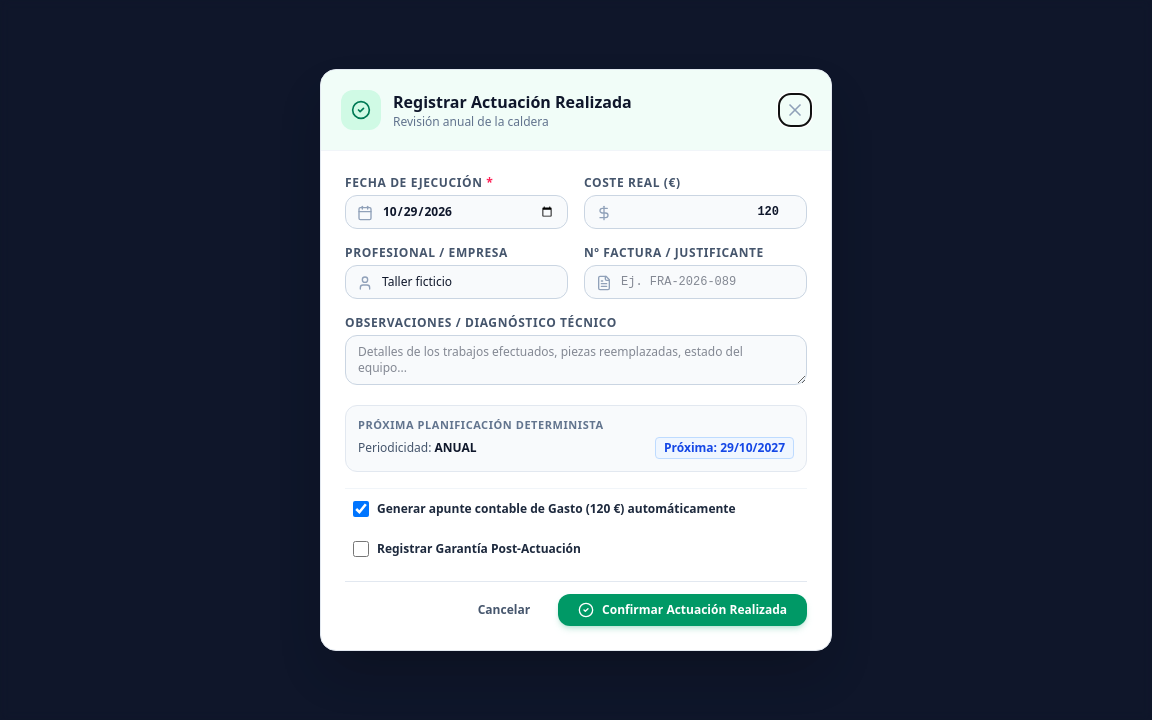
Test: BLOQUE 5 · RegistrarActuacionModal (persistencia verificable e idempotencia) › un fallo al guardar el gasto no avanza a garantía/tarea ni cierra el modal como éxito
Click the checkbox labelled "Registrar Garantía Post-Actuación" at (361, 549), box [353,541,369,557]
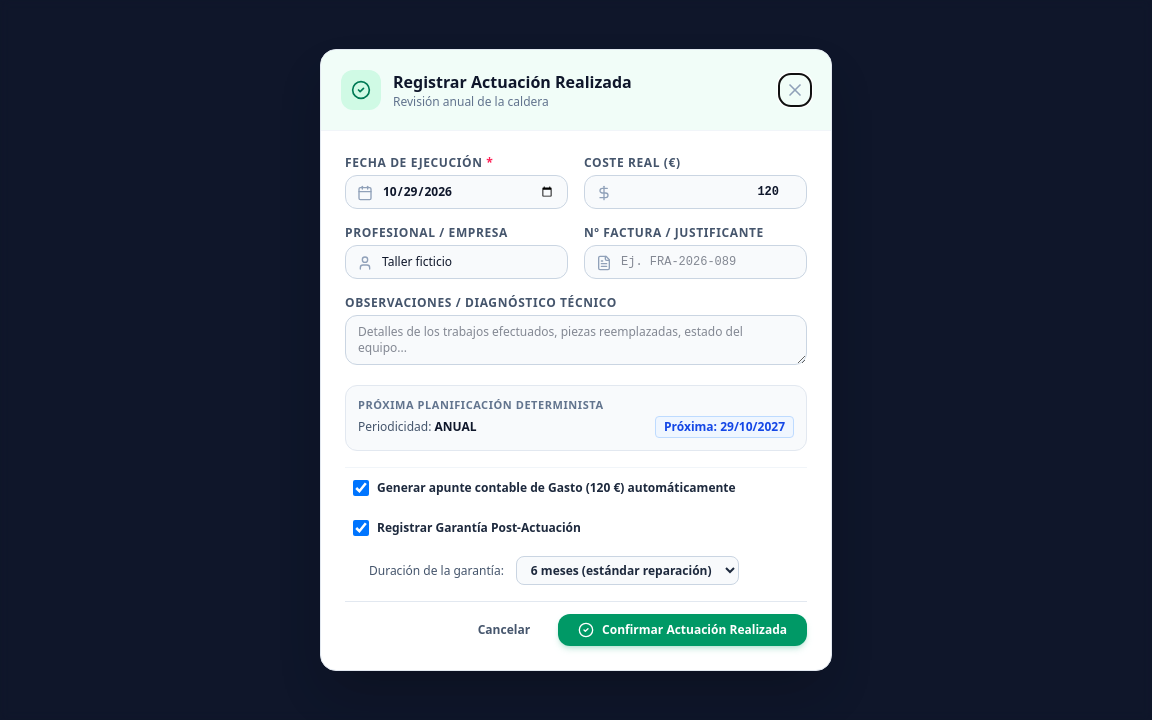
Type "2026-03-02" into the date field at (456, 192), box [345,175,568,209]
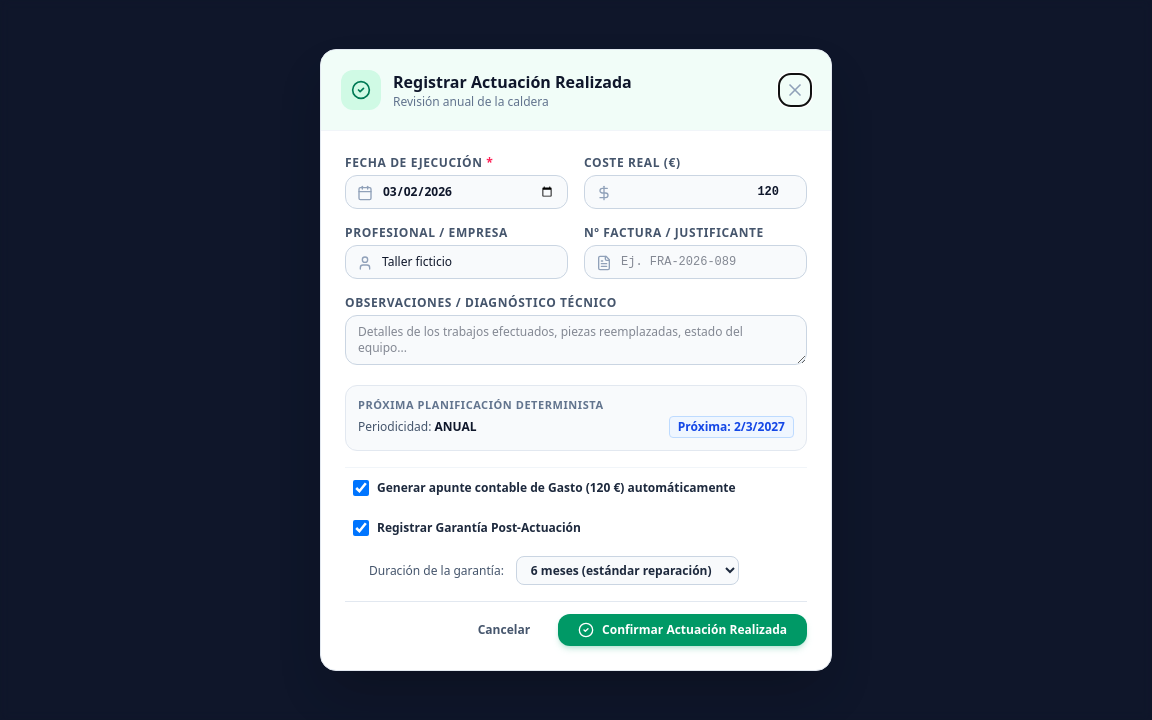
Click the button "Confirmar Actuación Realizada" at (683, 630), box [558,614,807,646]
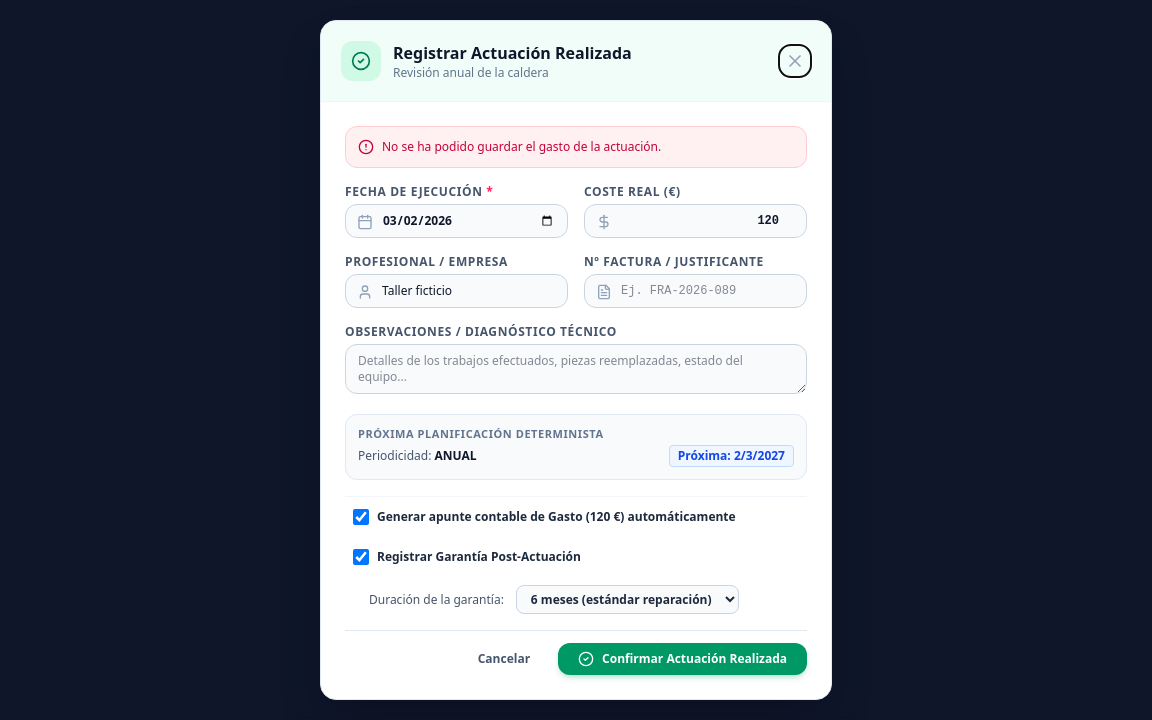
expect the text "No se ha podido guardar el gasto de la actuación." is shown: met, box [382,139,661,155]
